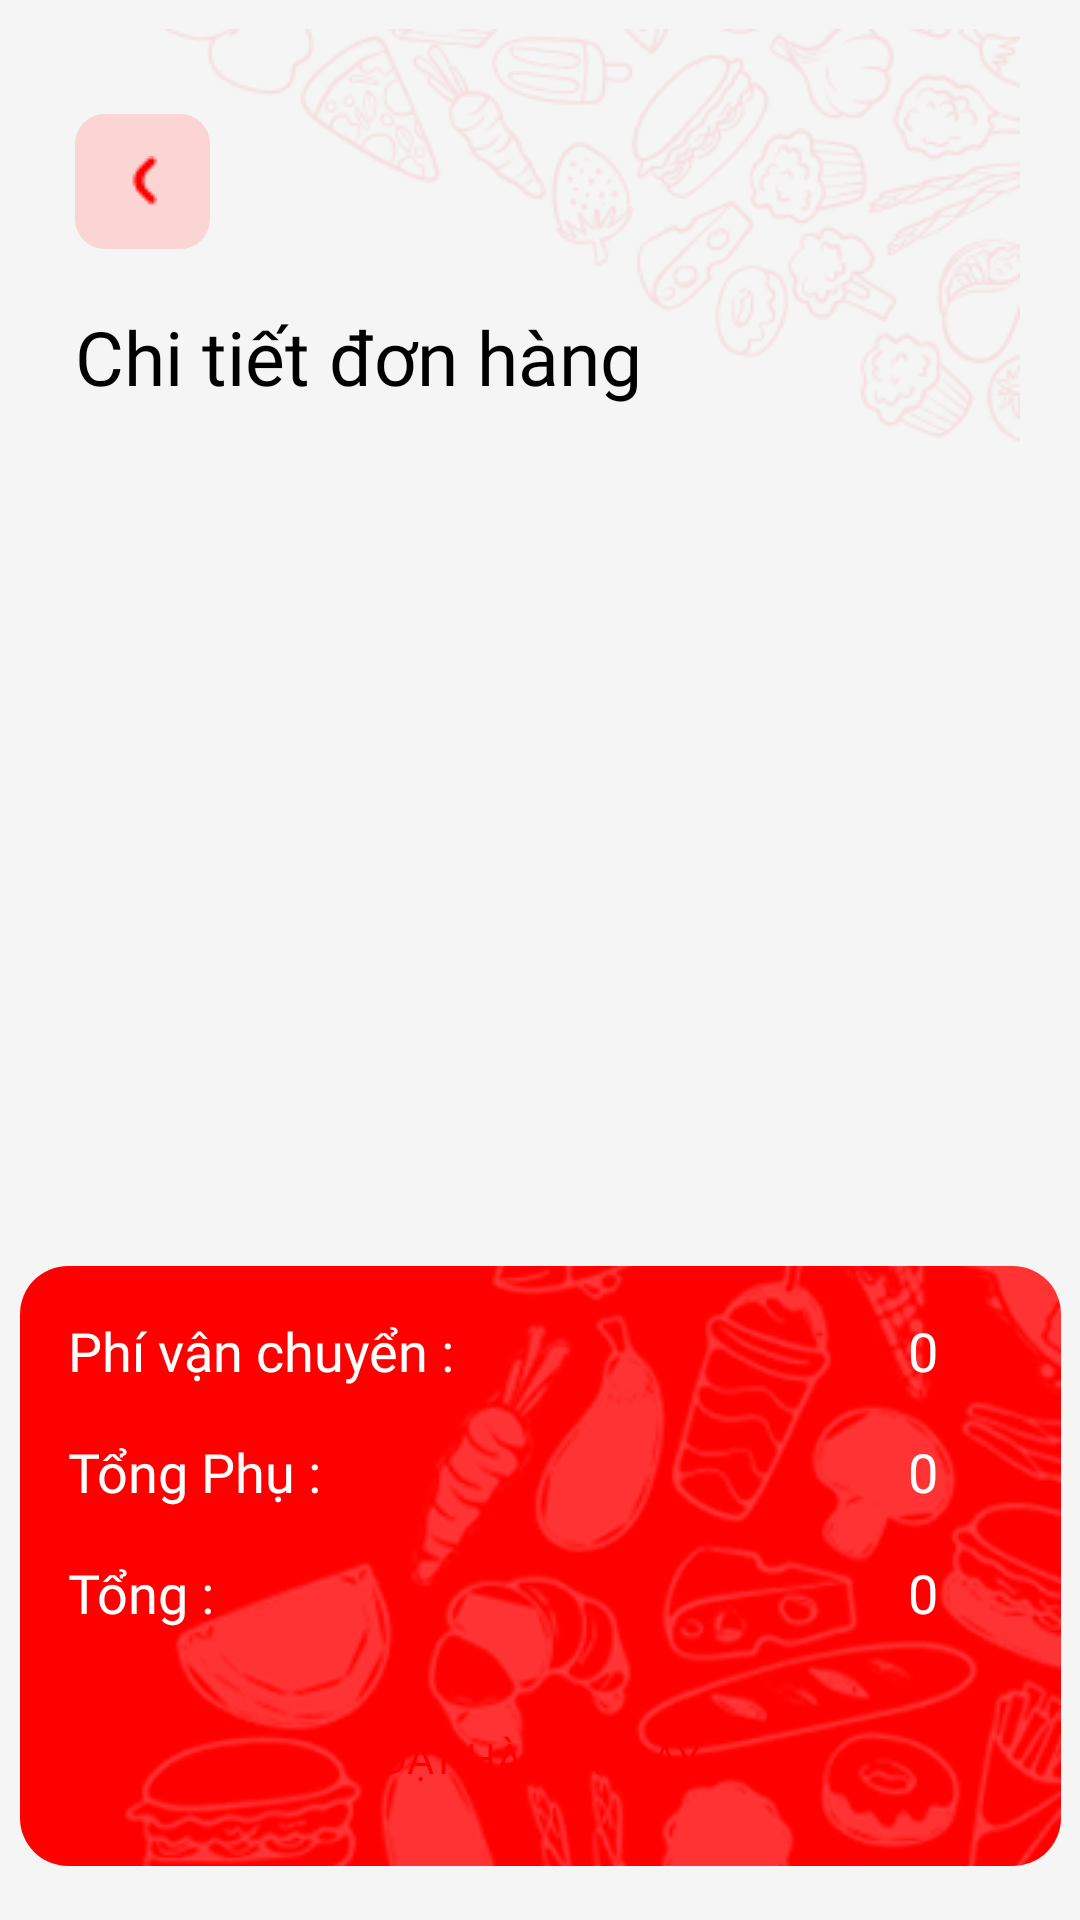

Icons on this 1080px×1920px Android screen, each with the point to tap as (x=x, y=y):
detail back: (x=144, y=180)
